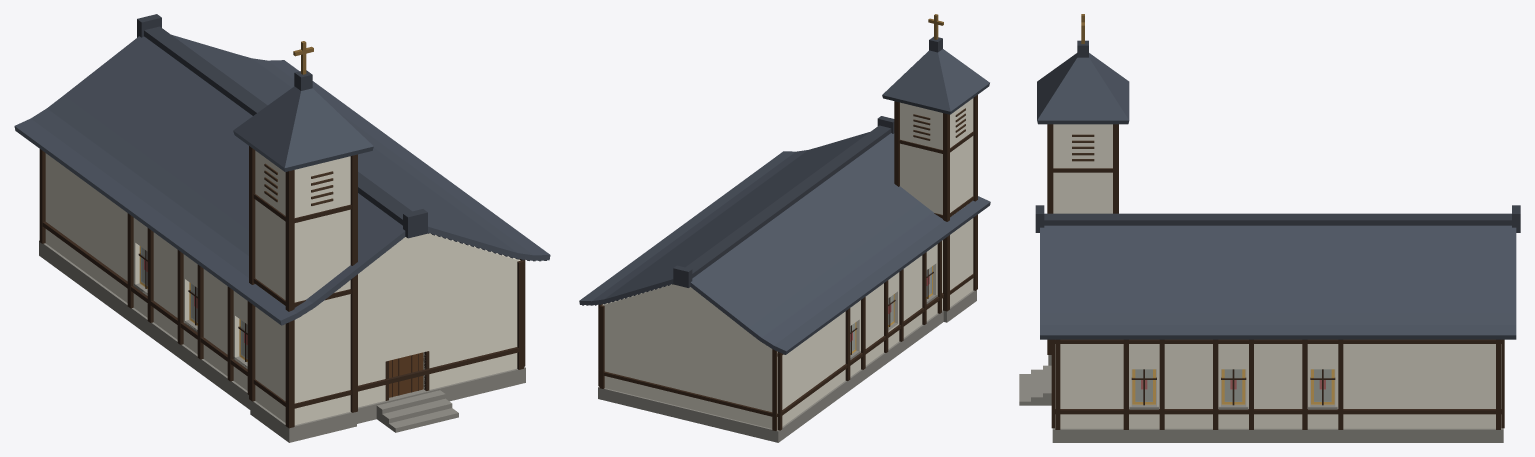
The model's file is church_shell.fbx.
3 renders of one model, left to right at view 1: azimuth 30°, elevation 25°; view 2: azimuth 150°, elevation 25°; view 3: azimuth 270°, elevation 25°, orthographic. The views are drawn at different scales.
Visible parts, largest first — view 1: Church_Roof, Church_Plaster, Church_Timber, Church_Stone, Church_Ridge, Church_Glass_Gold, Church_Louvre, Church_Glass_Blue, Church_Door_R, Church_Door_L; view 2: Church_Roof, Church_Plaster, Church_Timber, Church_Stone, Church_Ridge, Church_Glass_Gold, Church_Glass_Blue, Church_Louvre; view 3: Church_Roof, Church_Plaster, Church_Timber, Church_Stone, Church_Ridge, Church_Glass_Gold, Church_Glass_Blue.
Boxes of the visible parts, box(x1,y1,x2,y2) form: Church_Roof: box(14, 34, 550, 325); Church_Plaster: box(45, 150, 520, 425); Church_Timber: box(39, 146, 525, 428); Church_Stone: box(39, 240, 525, 442); Church_Ridge: box(137, 14, 546, 322); Church_Glass_Gold: box(139, 246, 247, 361); Church_Louvre: box(264, 163, 333, 205); Church_Glass_Blue: box(141, 247, 247, 359); Church_Door_R: box(405, 352, 423, 393); Church_Door_L: box(389, 357, 405, 397); Church_Roof: box(579, 49, 990, 354); Church_Plaster: box(602, 98, 973, 430); Church_Timber: box(598, 95, 977, 430); Church_Stone: box(598, 290, 976, 442); Church_Ridge: box(582, 36, 942, 354); Church_Glass_Gold: box(850, 266, 932, 354); Church_Glass_Blue: box(850, 266, 931, 352); Church_Louvre: box(913, 108, 965, 140); Church_Roof: box(1037, 53, 1516, 339); Church_Plaster: box(1053, 124, 1501, 428); Church_Timber: box(1047, 124, 1504, 429); Church_Stone: box(1019, 355, 1503, 442); Church_Ridge: box(1035, 40, 1520, 232); Church_Glass_Gold: box(1132, 369, 1334, 404); Church_Glass_Blue: box(1135, 369, 1331, 401).
Size of the model in its own units: 18.74 by 25.1 by 33.7.
